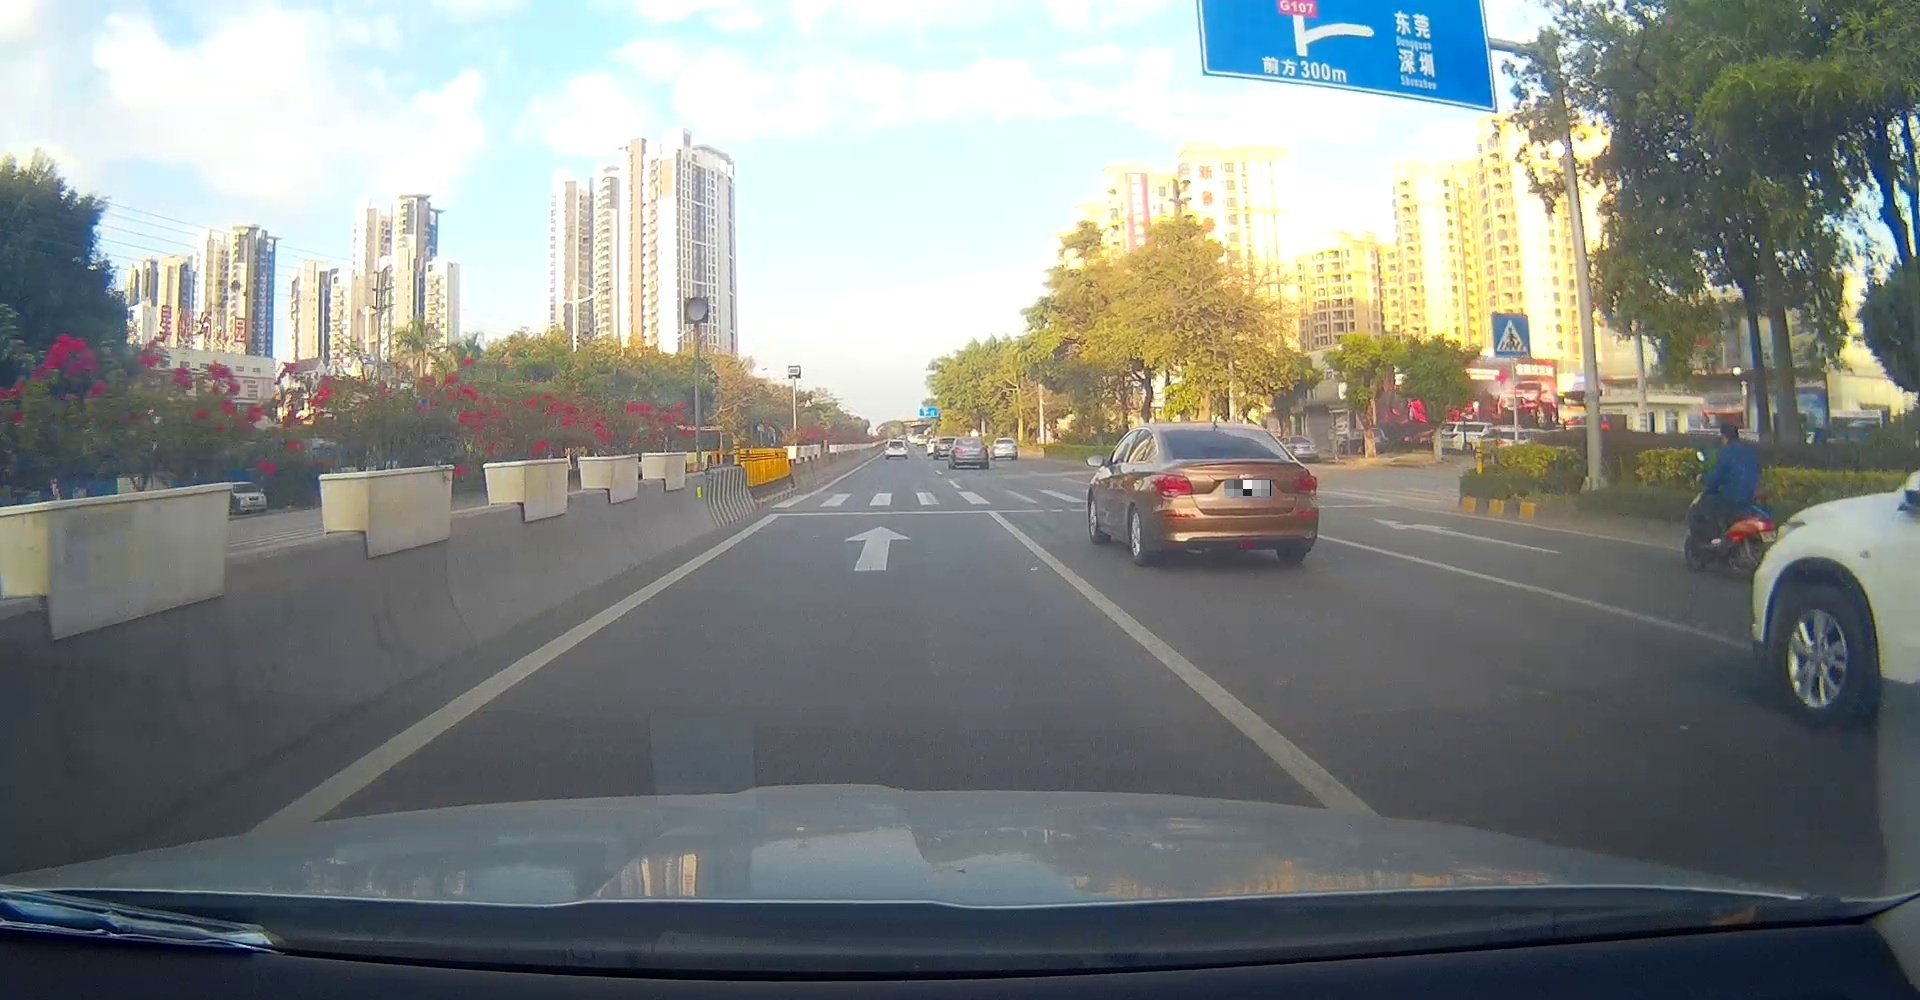L_light: (1150, 475, 1192, 495), (952, 447, 963, 453)
R_light: (1291, 475, 1317, 491), (978, 447, 988, 453)
T_light: (1215, 428, 1227, 431), (968, 438, 973, 440)
day-no: (1150, 423, 1319, 565), (951, 437, 989, 470)
plate_1: (1225, 480, 1271, 496)
